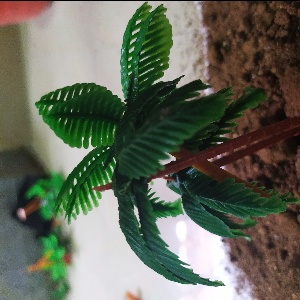plant: (40, 7, 295, 292)
